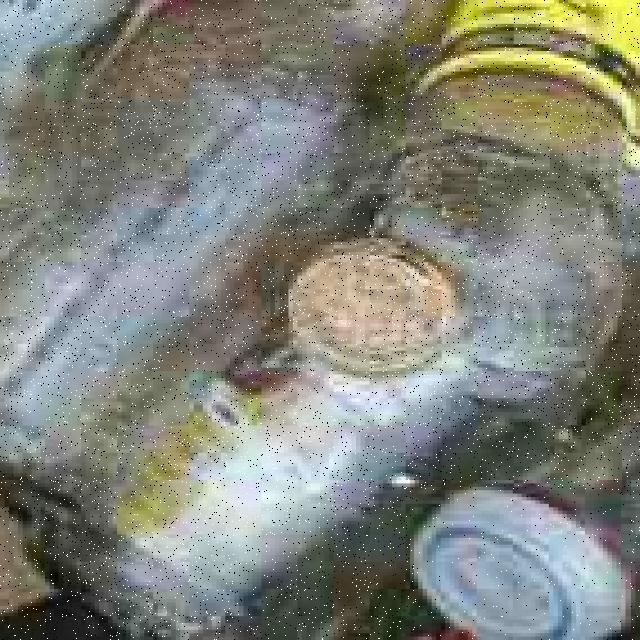glass: (0, 0, 640, 640)
metal: (414, 489, 630, 640), (289, 237, 460, 371)
